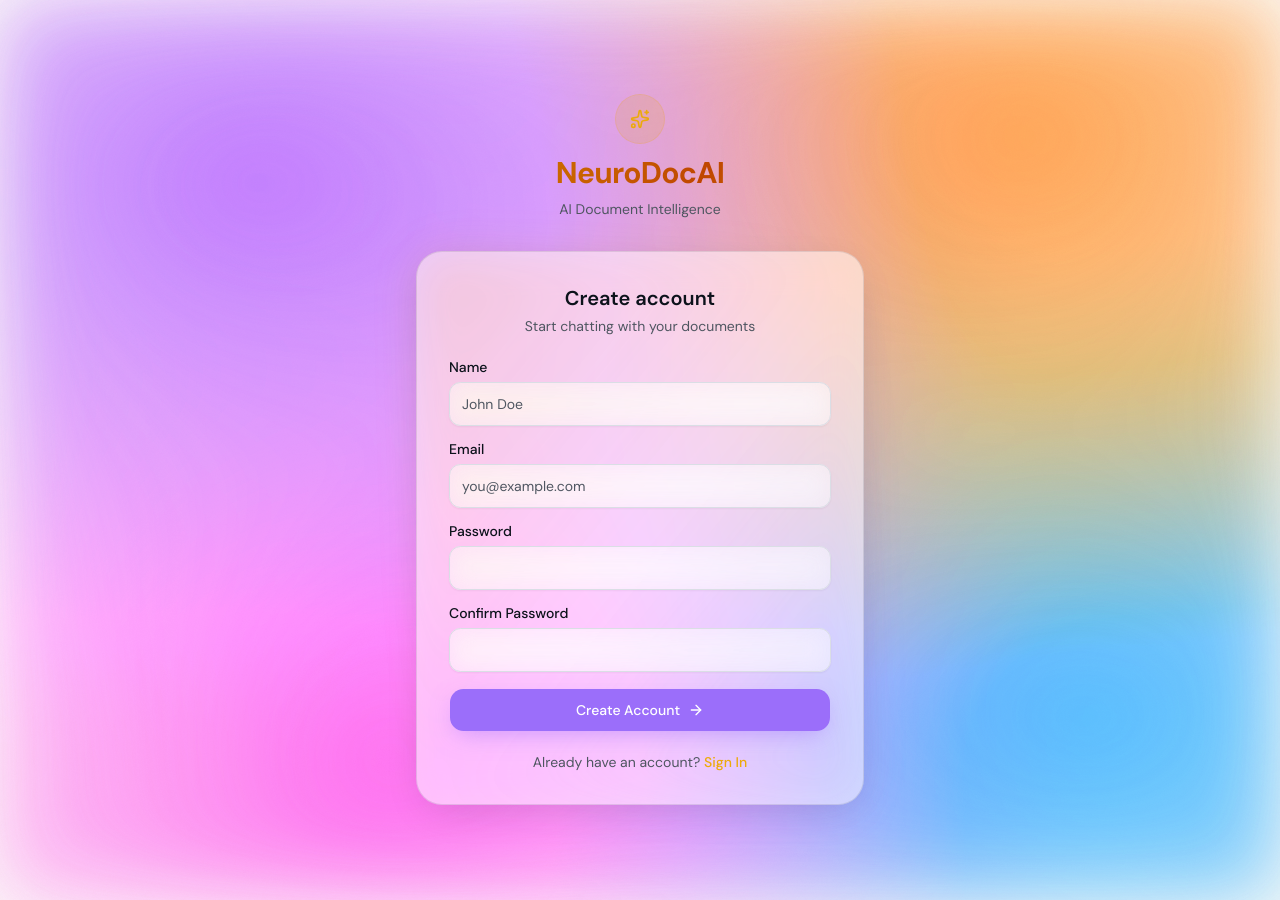
Test: RegisterPage › does not submit with short password
Type "Test" into the field labelled "Name" at [640, 404], box [449,382,831,426]
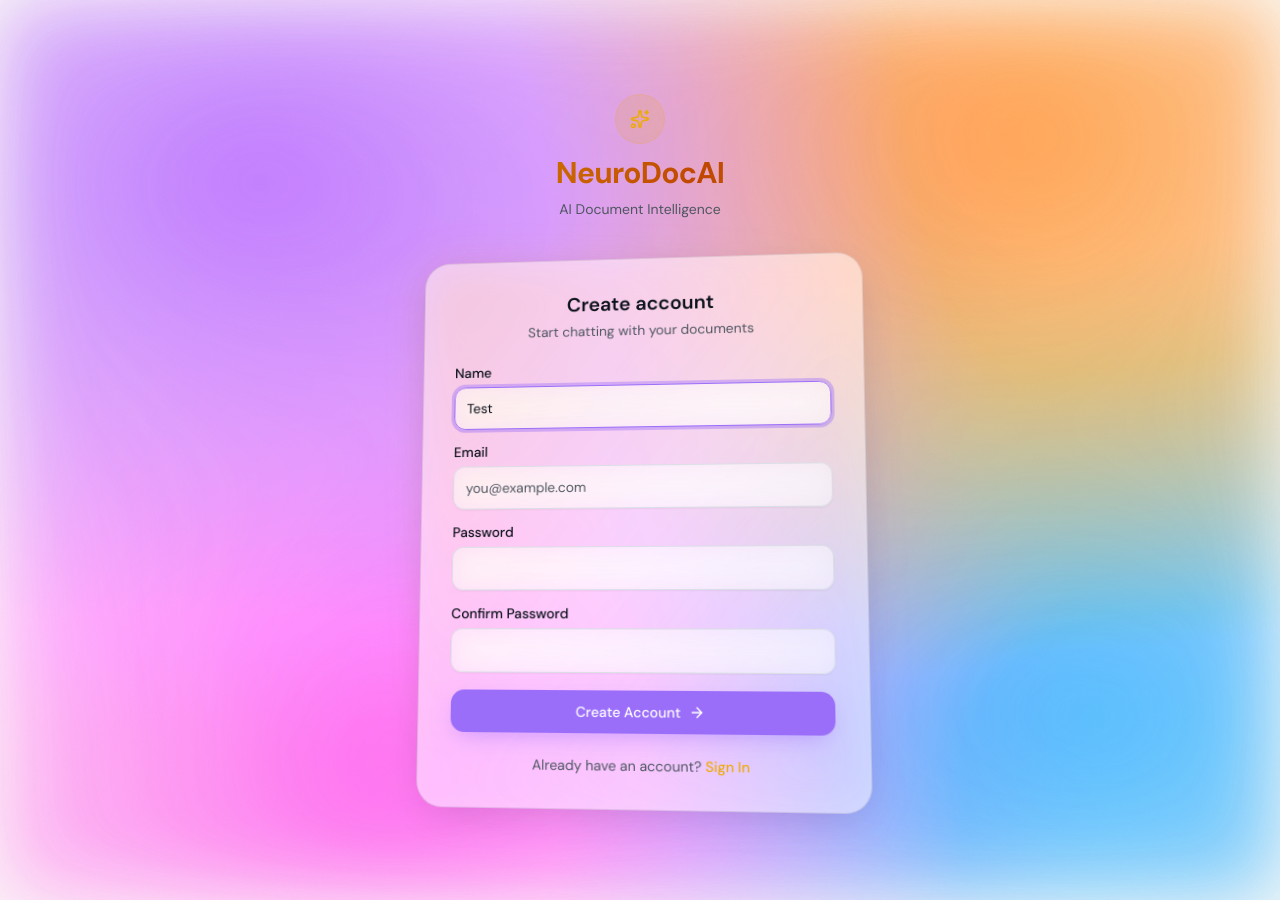
Type "t@t.com" into the field labelled "Email" at [643, 486], box [453,462,833,510]
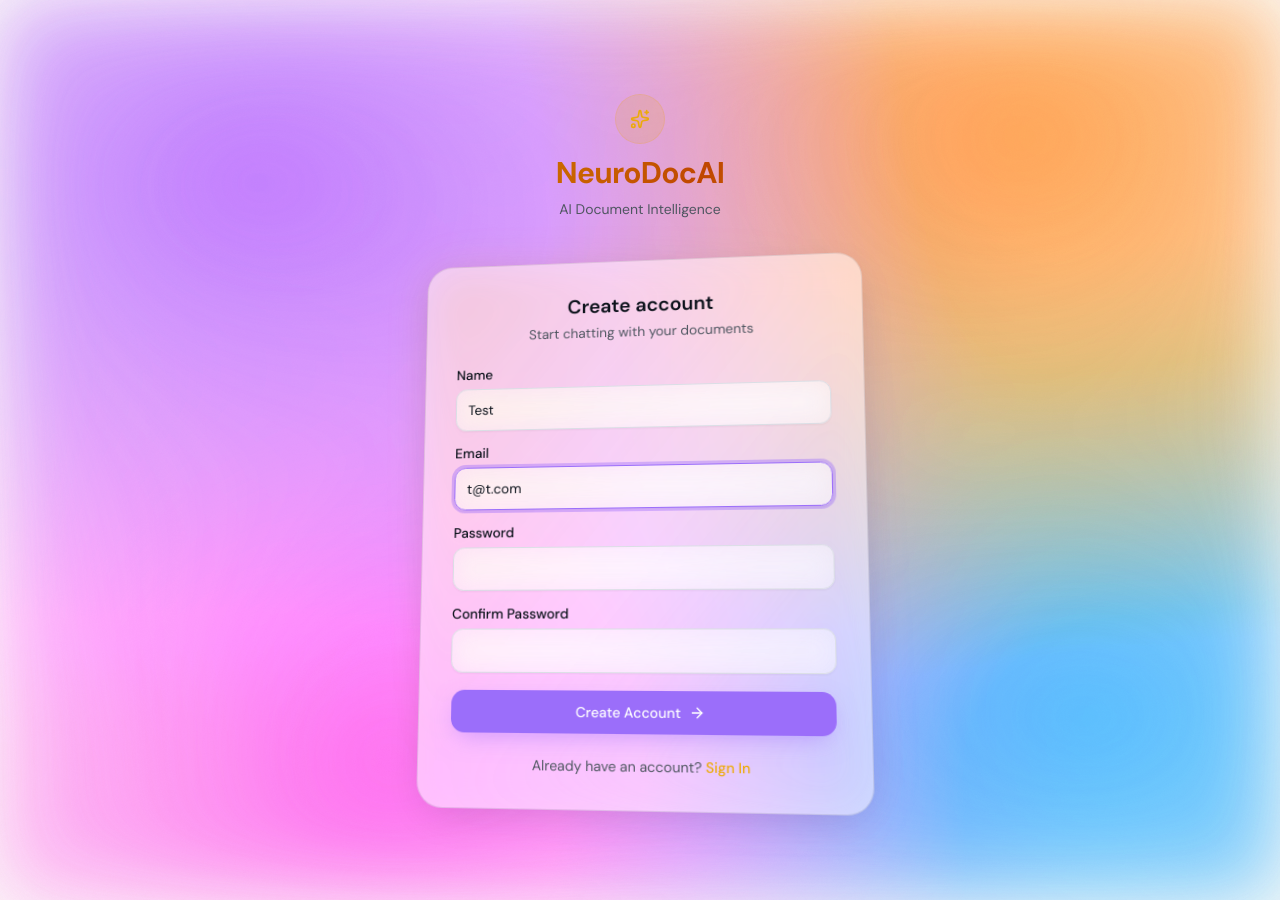
Type "short" into the password field labelled "Password" at [644, 568], box [453,544,835,591]
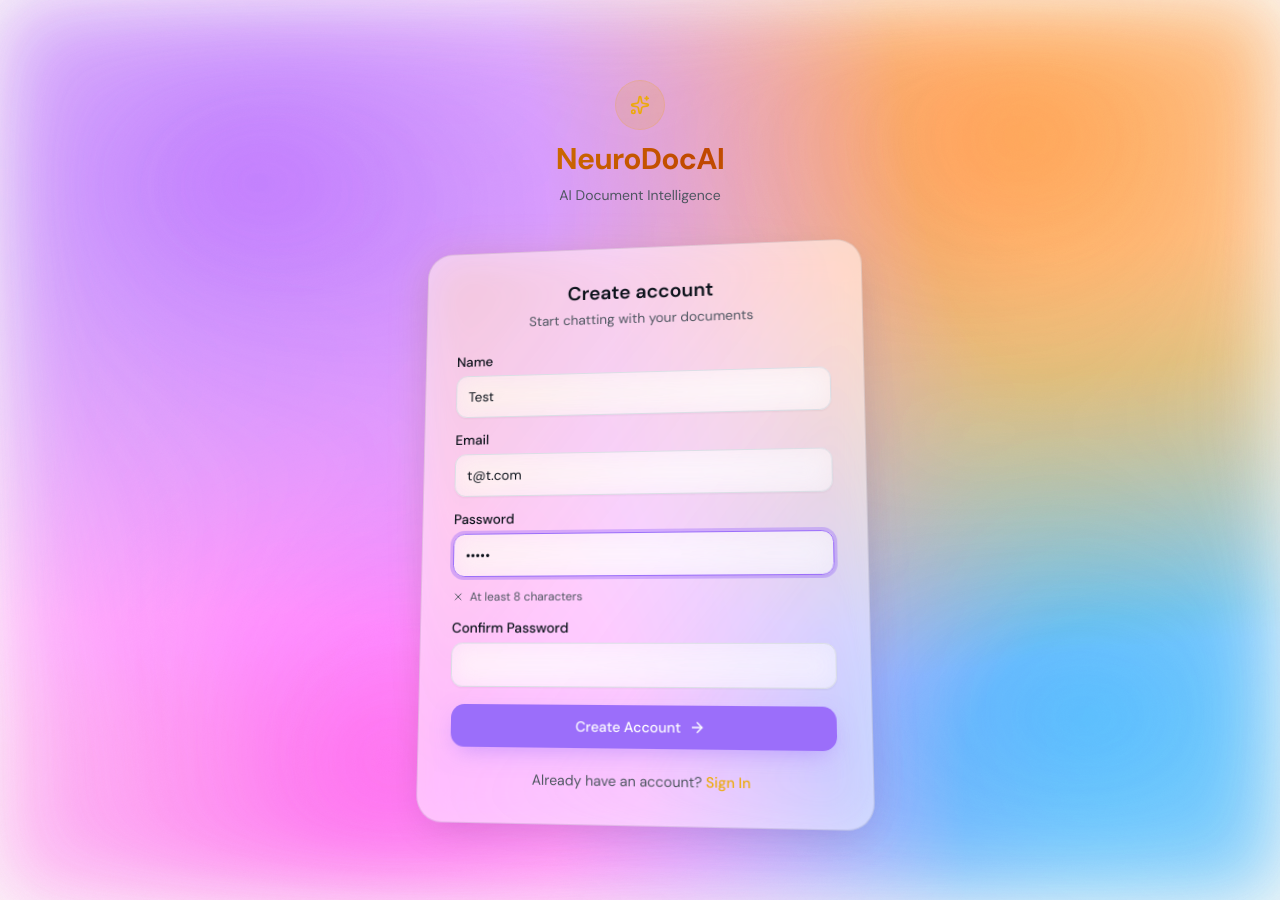
Type "short" into the password field labelled "Confirm Password" at [644, 666], box [451,643,837,689]
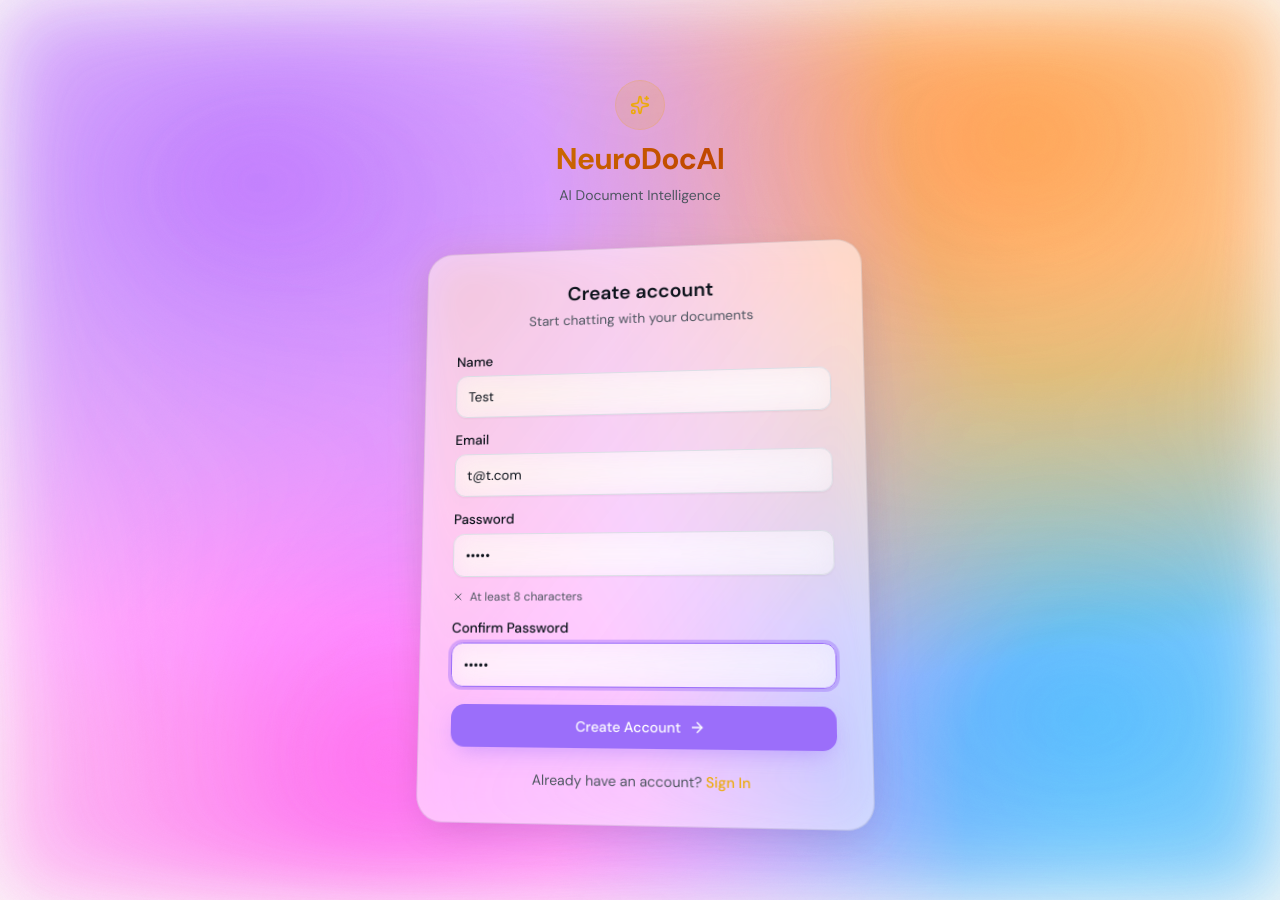
Click the button "Create Account" at [644, 728], box [450,703,838,752]
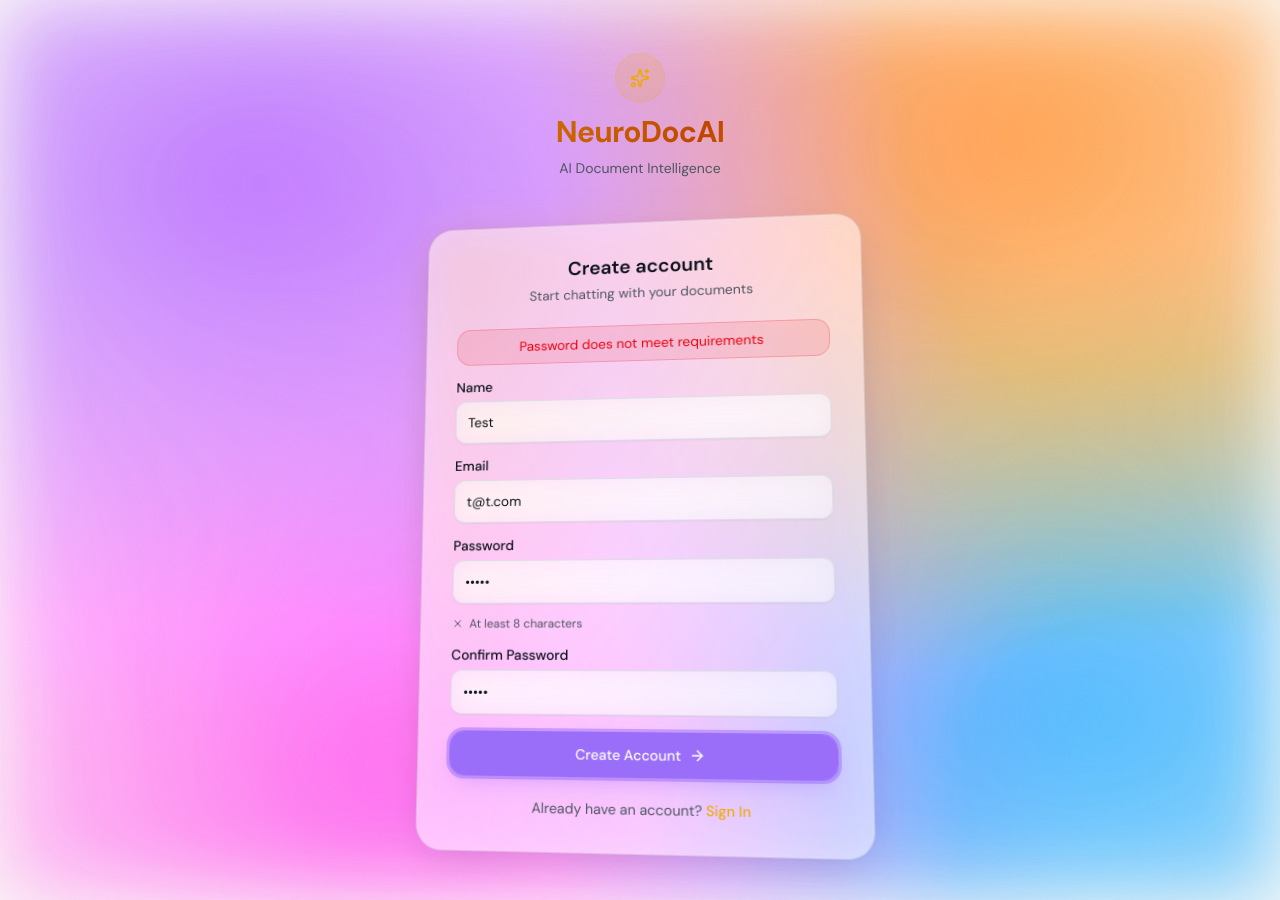
Expected: the text "Password does not meet requirements" is shown, [457,318,830,366]
